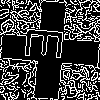E: (25, 25, 73, 63)
